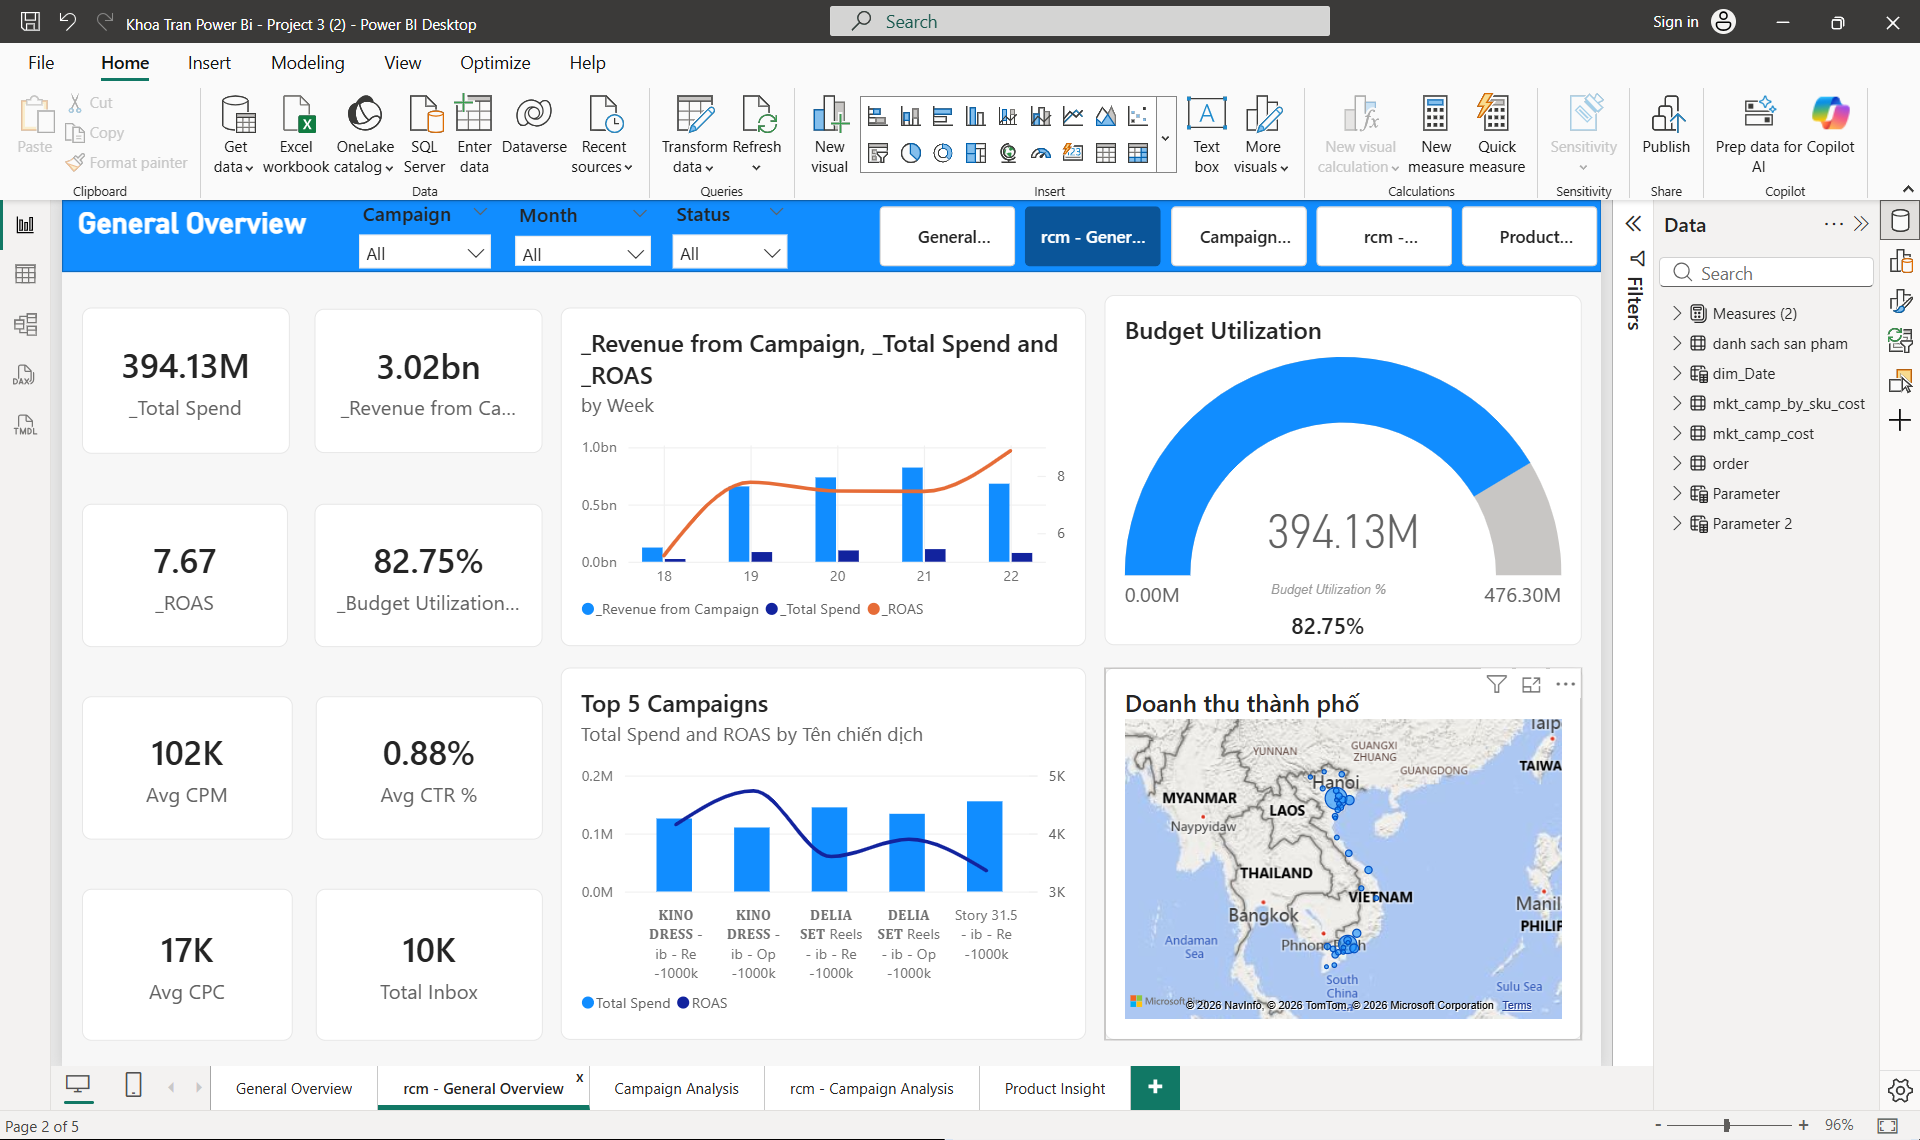

This screenshot's page, from the dashboard's own definition file:
{"tool":"powerbi","page":{"name":"General Overview","canvas":[1280,720],"ordinal":0},"visuals":[{"type":"shape","box":[0,0,1280,59.9],"z":0},{"type":"textbox","box":[13.2,4.8,228.9,55.1],"z":1000},{"type":"pageNavigator","box":[679.6,4.8,600.4,50.3],"z":2000},{"type":"card","fields":{"Values":["Measures (2).ROAS"]},"box":[640,72,282.7,93.3],"z":3000},{"type":"slicer","fields":{"Values":["mkt_camp_by_sku_cost.Tên chiến dịch"]},"box":[242.4,0,119.7,59.2],"z":4000},{"type":"card","fields":{"Values":["Measures (2).Total Spend"]},"box":[13.3,69.3,282.7,96],"z":5000},{"type":"card","fields":{"Values":["Measures (2).Revenue from Campaign"]},"box":[306.7,69.3,301.3,96],"z":6000},{"type":"slicer","fields":{"Values":["dim_Date.MonthName"]},"box":[372.2,1.4,122.6,53.4],"z":8000},{"type":"slicer","fields":{"Values":["mkt_camp_by_sku_cost.Status"]},"box":[503.5,0,105.3,60.6],"z":8001},{"type":"card","fields":{"Values":["Measures (2).Budget Utilization %"]},"box":[960,69.3,282.7,96],"z":8002},{"type":"tableEx","title":"Top 5 Campaigns","fields":{"Values":["mkt_camp_by_sku_cost.Tên chiến dịch","Measures (2).Total Spend","Measures (2).ROAS"]},"box":[13,183.2,404,279.9],"z":8004},{"type":"card","fields":{"Values":["Measures (2).Avg CPM"]},"box":[434.3,183.2,190.4,119.7],"z":8005},{"type":"card","fields":{"Values":["Measures (2).Avg CPC"]},"box":[434.3,336.2,190.4,127],"z":8006},{"type":"card","fields":{"Values":["Measures (2).Total Inbox"]},"box":[640.6,336.2,168.8,127],"z":8007},{"type":"card","fields":{"Values":["Measures (2).Avg CTR %"]},"box":[640.6,183.2,168.8,119.7],"z":8008},{"type":"barChart","title":"Budget Utilization","fields":{"Category":["mkt_camp_by_sku_cost.Tên chiến dịch"],"Y":["Measures (2).Budget Utilization %"]},"box":[27.4,480.4,1227.8,220.7],"z":8009},{"type":"scatterChart","fields":{"Category":["mkt_camp_by_sku_cost.Tên chiến dịch"],"Series":["mkt_camp_by_sku_cost.Status"],"Size":["Measures (2).Revenue from Campaign"],"X":["Measures (2).Total Spend"],"Y":["Measures (2).ROAS"]},"box":[831,183.2,448.7,279.9],"z":8010}]}

Visuals, with their boxes on the page's 1280x720 design canvas (x1, y1, x2, y2). These are canvas units, not pixel positions in the 1920x1140 screenshot, which may show the page scaled, cropped or inside an application window:
shape: {"left": 0, "top": 0, "right": 1280, "bottom": 60}
textbox: {"left": 13, "top": 5, "right": 242, "bottom": 60}
pageNavigator: {"left": 680, "top": 5, "right": 1280, "bottom": 55}
card - Measures (2).ROAS: {"left": 640, "top": 72, "right": 923, "bottom": 165}
slicer - mkt_camp_by_sku_cost.Tên chiến dịch: {"left": 242, "top": 0, "right": 362, "bottom": 59}
card - Measures (2).Total Spend: {"left": 13, "top": 69, "right": 296, "bottom": 165}
card - Measures (2).Revenue from Campaign: {"left": 307, "top": 69, "right": 608, "bottom": 165}
slicer - dim_Date.MonthName: {"left": 372, "top": 1, "right": 495, "bottom": 55}
slicer - mkt_camp_by_sku_cost.Status: {"left": 504, "top": 0, "right": 609, "bottom": 61}
card - Measures (2).Budget Utilization %: {"left": 960, "top": 69, "right": 1243, "bottom": 165}
"Top 5 Campaigns" tableEx: {"left": 13, "top": 183, "right": 417, "bottom": 463}
card - Measures (2).Avg CPM: {"left": 434, "top": 183, "right": 625, "bottom": 303}
card - Measures (2).Avg CPC: {"left": 434, "top": 336, "right": 625, "bottom": 463}
card - Measures (2).Total Inbox: {"left": 641, "top": 336, "right": 809, "bottom": 463}
card - Measures (2).Avg CTR %: {"left": 641, "top": 183, "right": 809, "bottom": 303}
"Budget Utilization" barChart: {"left": 27, "top": 480, "right": 1255, "bottom": 701}
scatterChart - mkt_camp_by_sku_cost.Tên chiến dịch x mkt_camp_by_sku_cost.Status: {"left": 831, "top": 183, "right": 1280, "bottom": 463}
